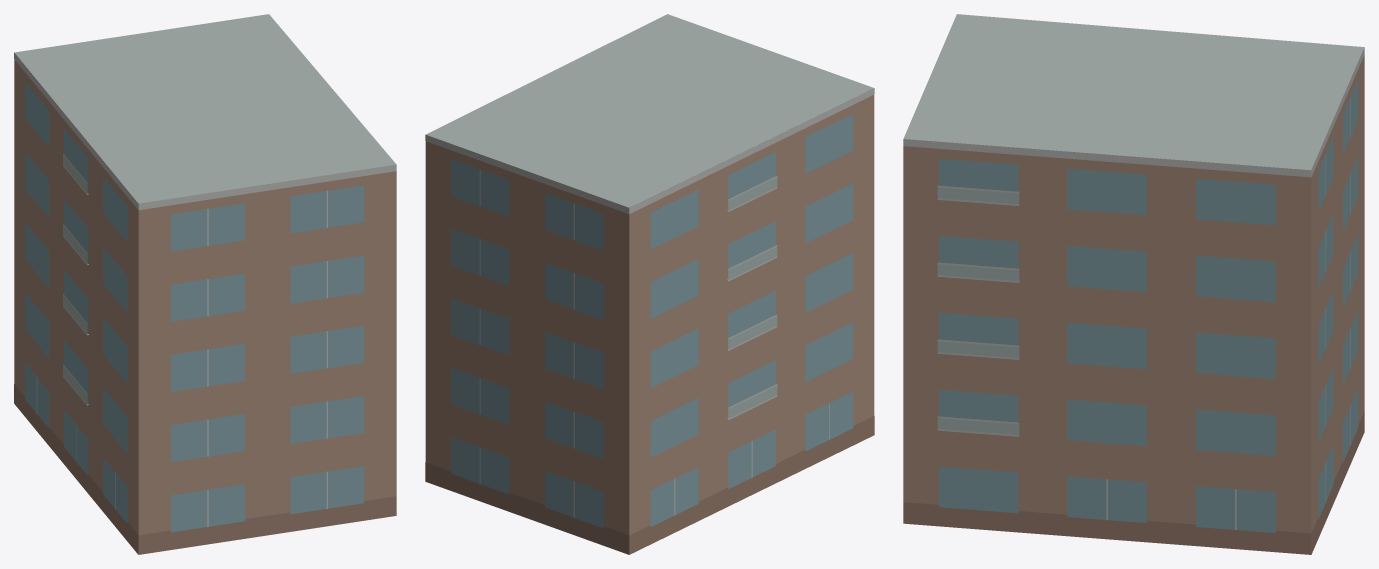
The model's file is survey-upis-32998692.glb.
The picture shows the model from 3 angles, left to right: view 1: azimuth 30°, elevation 25°; view 2: azimuth 150°, elevation 25°; view 3: azimuth 270°, elevation 25°; orthographic projection. The views are drawn at different scales.
Visible parts, largest first — view 1: survey-upis-32998692.tmp; view 2: survey-upis-32998692.tmp; view 3: survey-upis-32998692.tmp.
Boxes of the visible parts, bbox=[...] form: survey-upis-32998692.tmp: bbox=[14, 14, 396, 554]; survey-upis-32998692.tmp: bbox=[425, 14, 874, 554]; survey-upis-32998692.tmp: bbox=[903, 14, 1364, 554].
Bounding box in the file's own units: 11.47 × 13.15 × 14.31.
